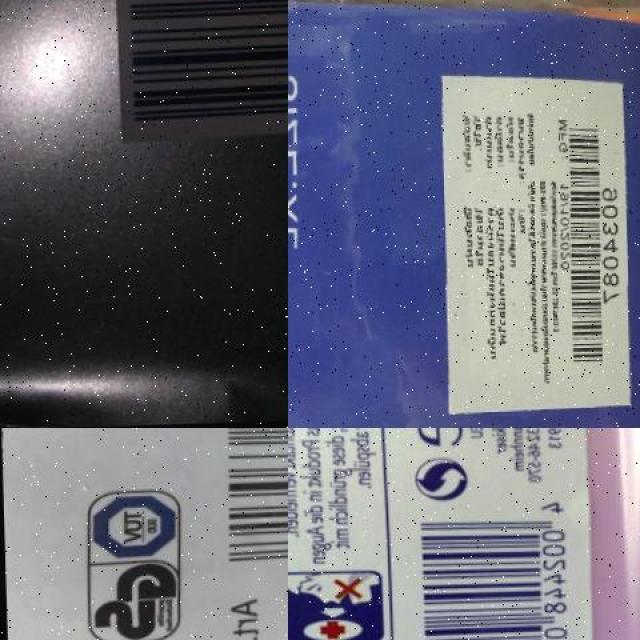Barcode: (101, 0, 288, 144), (405, 498, 579, 640), (560, 116, 620, 380), (197, 428, 288, 576)
